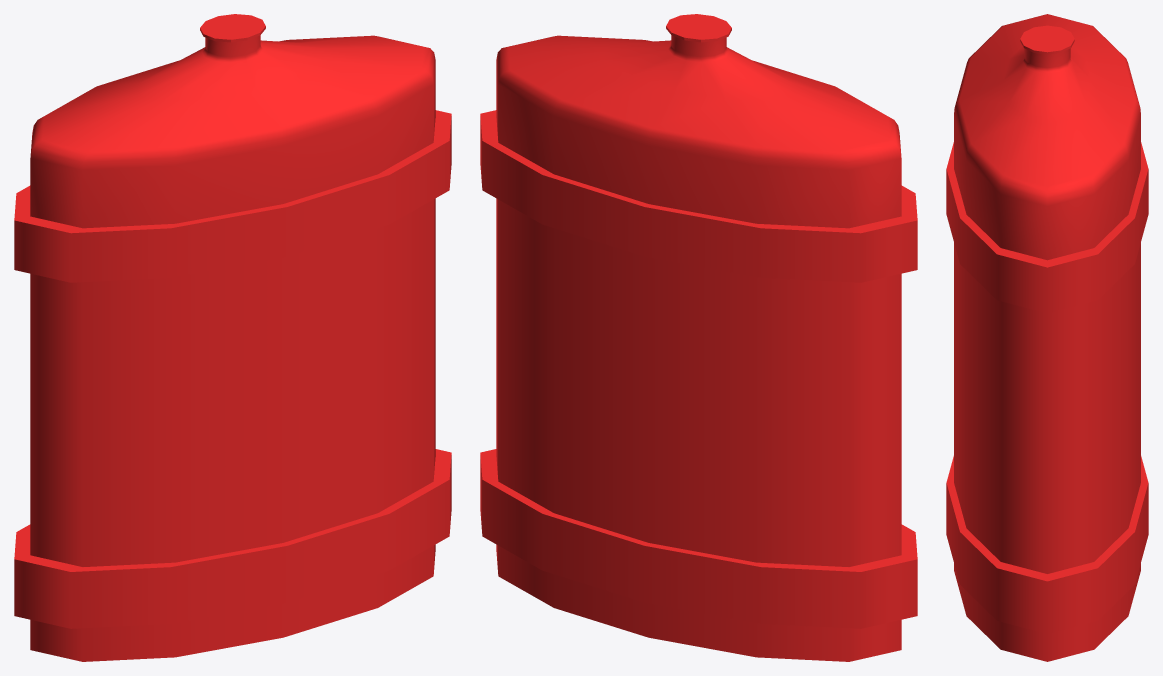
The model's file is Flask Centimeters.FBX.
3 views of the same model, side by side, from view 1: azimuth 30°, elevation 25°; view 2: azimuth 150°, elevation 25°; view 3: azimuth 270°, elevation 25° (orthographic). The views are drawn at different scales.
Visible parts, largest first — view 1: Cylinder002; view 2: Cylinder002; view 3: Cylinder002.
Part boxes in pixels (x1,y1,x2,y2): Cylinder002: (14,14,451,661); Cylinder002: (480,14,917,661); Cylinder002: (946,14,1148,661).
Bounding box in the file's own units: 8.95 × 11.21 × 3.86.
